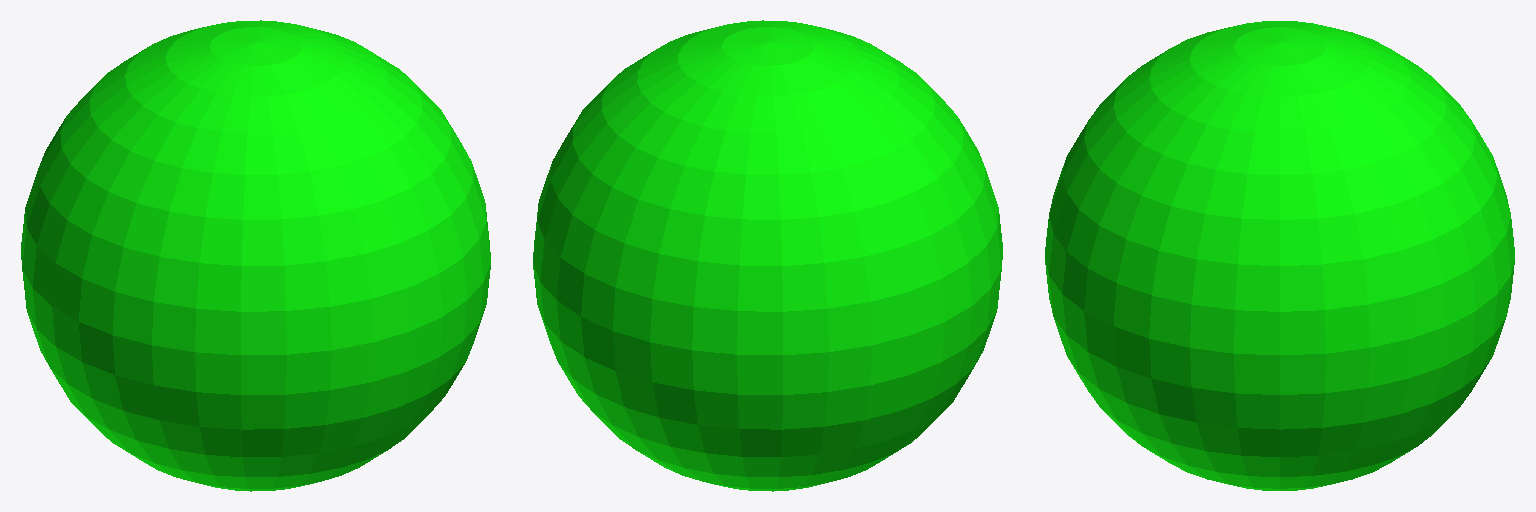
URDF robot description (sphere):
<?xml version="1.0" ?>
<robot name="sphere">
  <link name="sphereLink">
  <contact>
      <lateral_friction value="1"/>
  </contact>
    <inertial>
      <origin rpy="0 0 0" xyz="0 0 0"/>
       <mass value=".0"/>
       <inertia ixx="0" ixy="0" ixz="0" iyy="0" iyz="0" izz="0"/>
    </inertial>
    <visual>
      <origin rpy="0 0 0" xyz="0 0 0"/>
      <geometry>
				<mesh filename="sphere.stl" scale="1 1 1"/>
      </geometry>
       <material name="red">
        <color rgba="0.1 1 0.1 1"/>
      </material>
    </visual>
    <collision>
      <origin rpy="0 0 0" xyz="0 0 0"/>
      <geometry>
	 	<box size="1 1 1"/>
      </geometry>
    </collision>
  </link>
</robot>

--- Facts derived from the render (not from the file) ---
The picture shows the robot from 3 angles, left to right: view 1: azimuth 30°, elevation 25°; view 2: azimuth 150°, elevation 25°; view 3: azimuth 270°, elevation 25°; orthographic projection.
Model sphere with 1 links and 0 joints (none), rooted at sphereLink, posed all joints at 0.
Links seen in each view (by area): view 1: sphereLink; view 2: sphereLink; view 3: sphereLink.
Link boxes in pixels (x1,y1,x2,y2): sphereLink: (21,20,490,491); sphereLink: (533,20,1002,491); sphereLink: (1045,21,1514,490).
Size in the robot's own frame: 0.02 by 0.02 by 0.02 metres.
1 mesh visuals loaded from 1 distinct referenced files (1 binary STL).